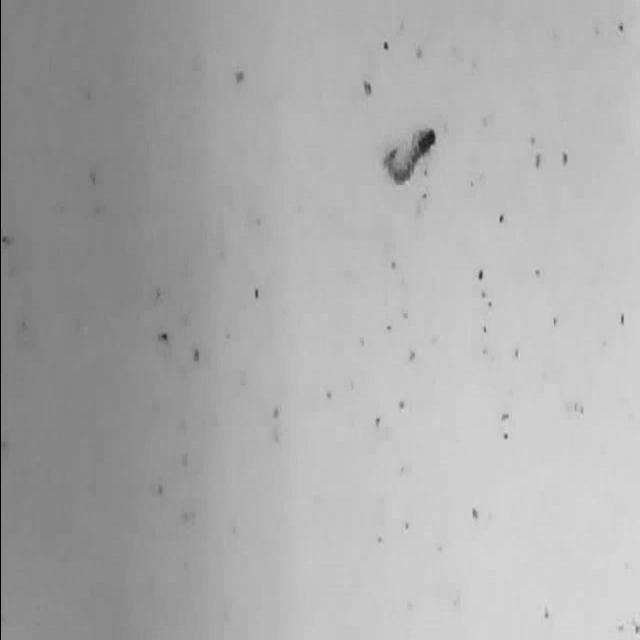larvas: (381, 124, 435, 184)
